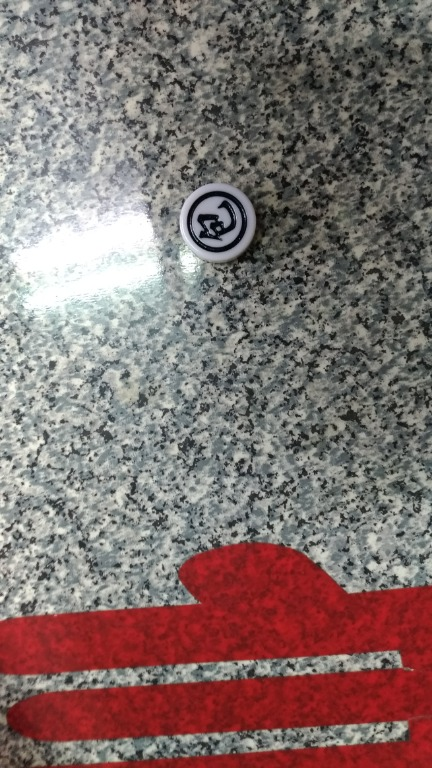b-cannon: (173, 173, 268, 282)
